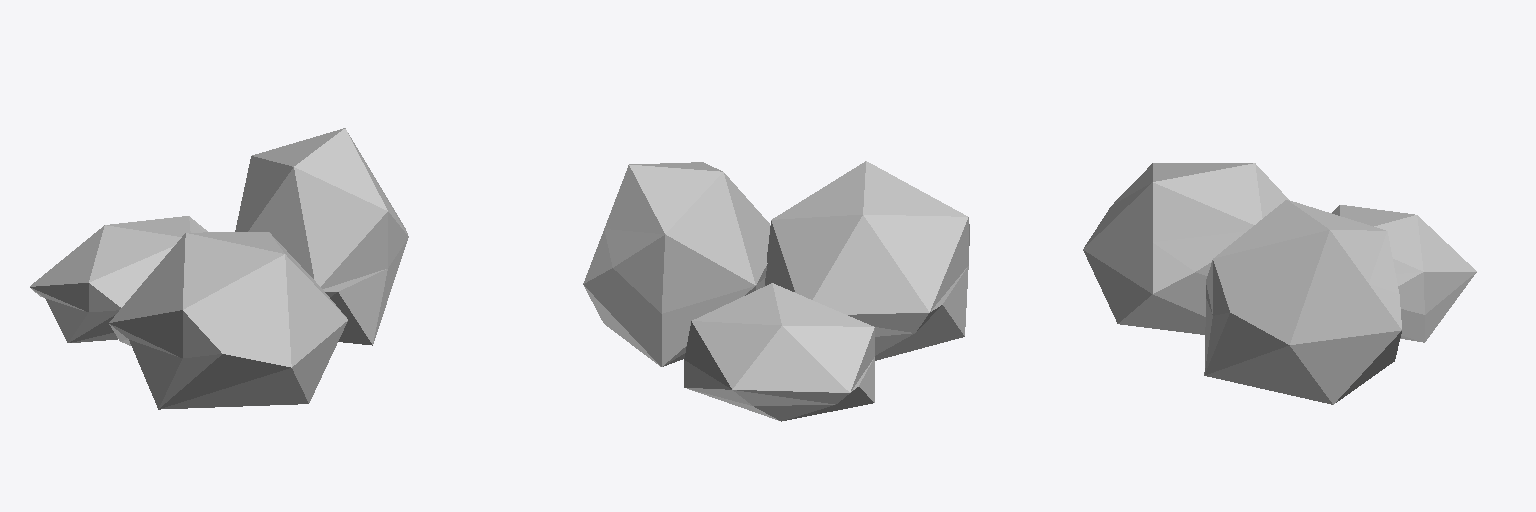
Rendered from bushes.obj.
The picture shows the model from 3 angles: view 1: azimuth 30°, elevation 25°; view 2: azimuth 150°, elevation 25°; view 3: azimuth 270°, elevation 25°; orthographic projection.
Parts seen in each view (by area): view 1: bush, bush2, bush1; view 2: bush, bush2, bush1; view 3: bush2, bush, bush1.
Boxes of the visible parts, x1,y1,x2,y2 form: bush: [109, 232, 347, 409]; bush2: [235, 128, 408, 345]; bush1: [30, 216, 207, 342]; bush: [765, 161, 969, 360]; bush2: [583, 162, 770, 366]; bush1: [684, 283, 874, 421]; bush2: [1204, 200, 1401, 404]; bush: [1083, 163, 1288, 334]; bush1: [1332, 205, 1476, 342].
Size of the model in its own units: 3.71 by 1.88 by 4.1.